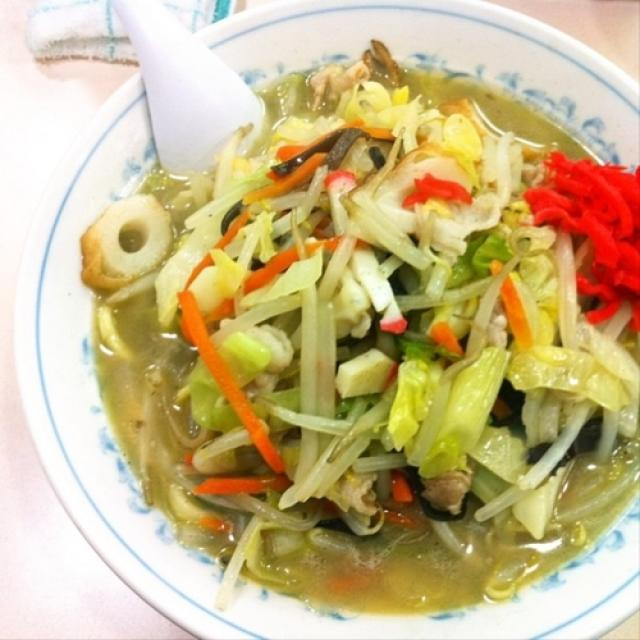豆腐料理: (19, 88, 269, 393)
